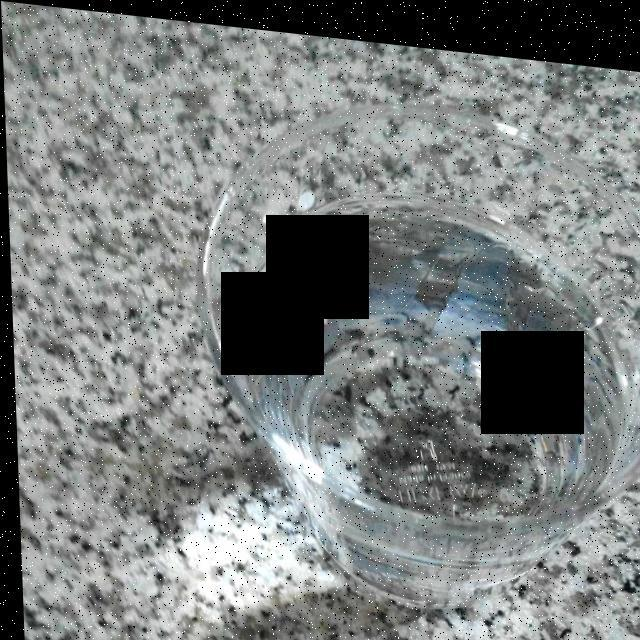water: (260, 208, 604, 502)
